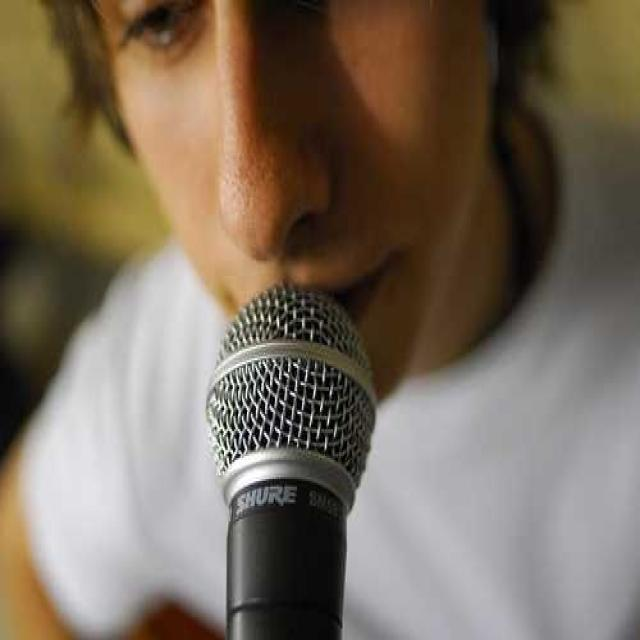microphone: (203, 262, 383, 639)
